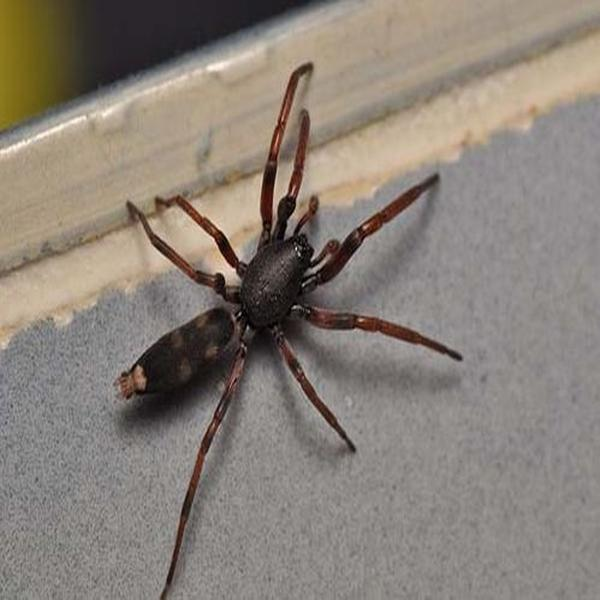White-Tailed Spider: (118, 73, 442, 559)
